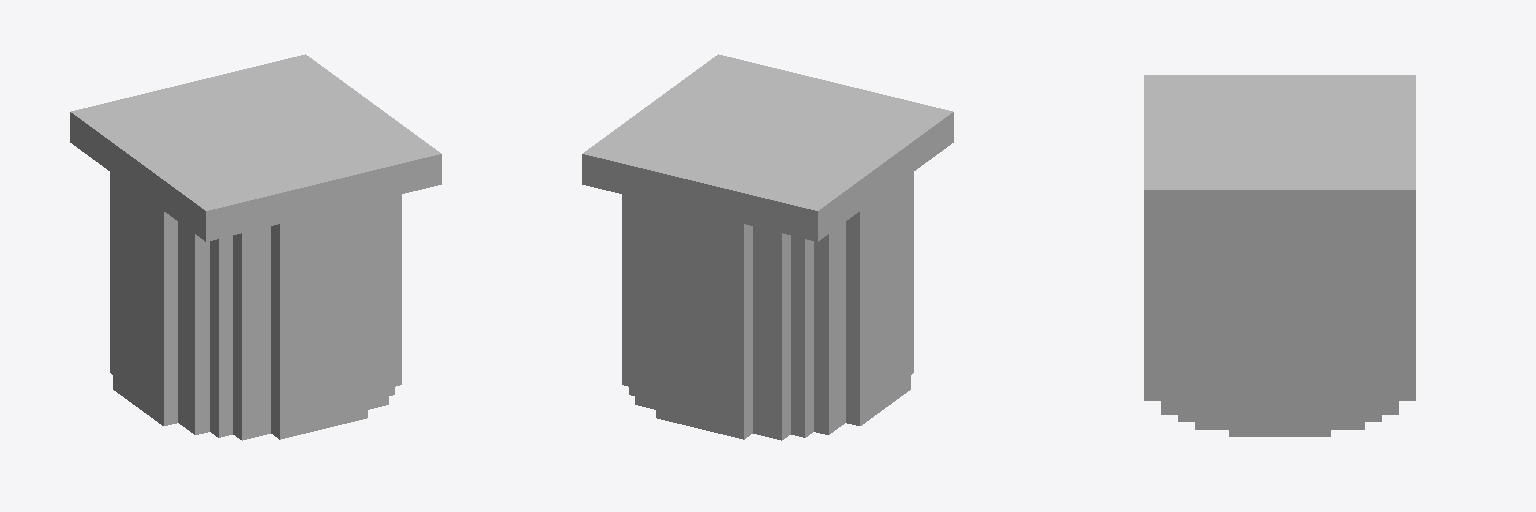
Rendered from bomb_dropper.obj.
3 renders of one model, left to right at view 1: azimuth 30°, elevation 25°; view 2: azimuth 150°, elevation 25°; view 3: azimuth 270°, elevation 25°, orthographic.
Parts seen in each view (by area): view 1: object 1; view 2: object 1; view 3: object 1.
Part boxes in pixels (x1,y1,x2,y2): object 1: (70, 54, 441, 440); object 1: (582, 54, 953, 440); object 1: (1144, 75, 1415, 436).
Size of the model in its own units: 1.6 by 1.6 by 1.6.